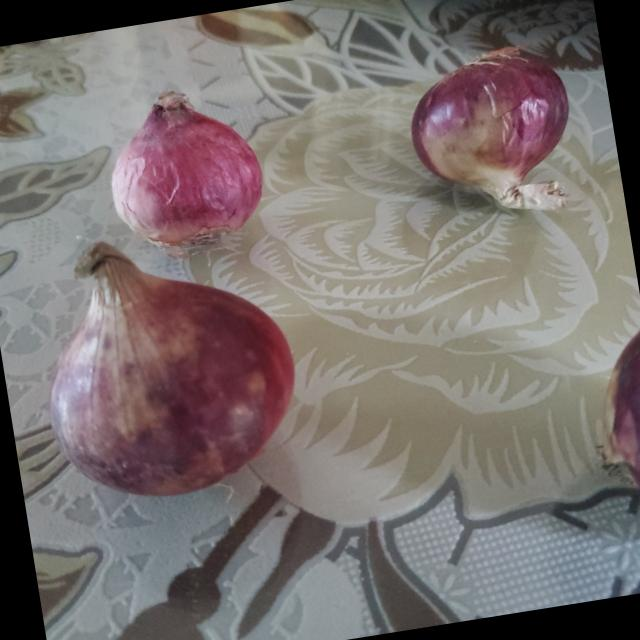onion: (26, 219, 310, 516), (400, 38, 582, 233), (98, 85, 269, 256), (592, 320, 640, 536)
